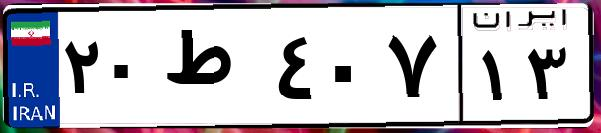0: (330, 28, 385, 110), (110, 28, 158, 98)
1: (475, 38, 525, 113)
2: (57, 26, 110, 100)
3: (525, 38, 570, 115)
4: (270, 28, 330, 110)
7: (385, 28, 445, 110)
ط: (158, 20, 270, 120)
